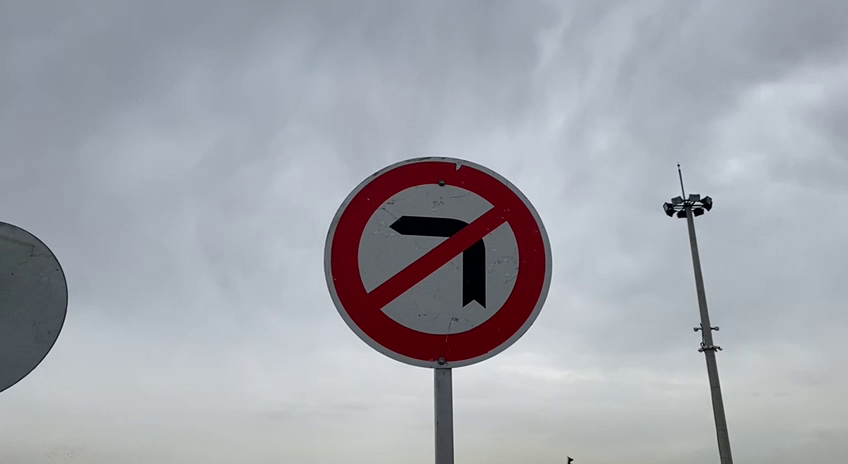noTurnLeft: (318, 150, 559, 373)
